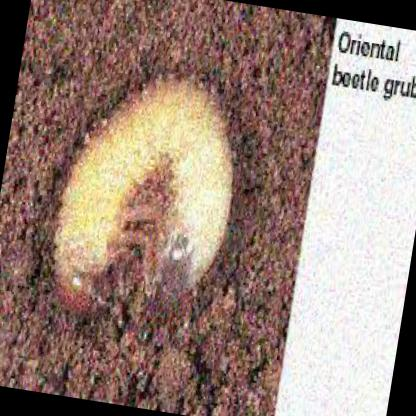root grubs: (54, 80, 230, 323)
